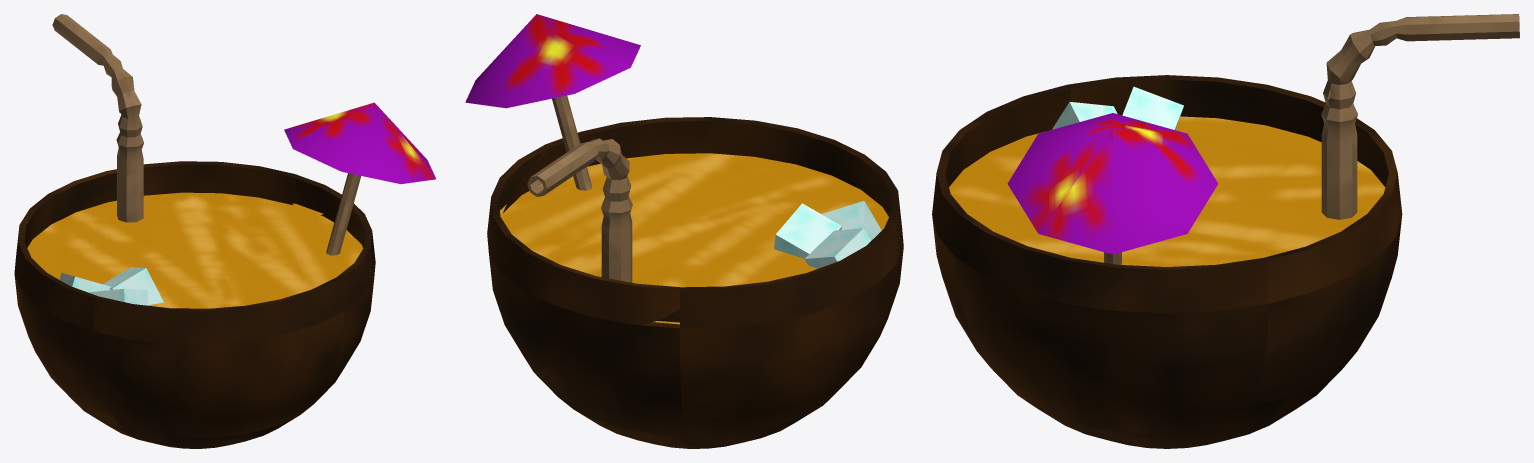
Rendered from DrinkTropical.fbx.
The picture shows the model from 3 angles, left to right: view 1: azimuth 30°, elevation 25°; view 2: azimuth 150°, elevation 25°; view 3: azimuth 270°, elevation 25°; orthographic projection. The views are drawn at different scales.
Visible parts, largest first — view 1: SucoTropical; view 2: SucoTropical; view 3: SucoTropical.
Boxes of the visible parts, left/top/right/bottom form: SucoTropical: left=14, top=14, right=435, bottom=448; SucoTropical: left=465, top=14, right=903, bottom=448; SucoTropical: left=932, top=14, right=1519, bottom=448.
Bounding box in the file's own units: 52.19 × 43.15 × 55.56.
